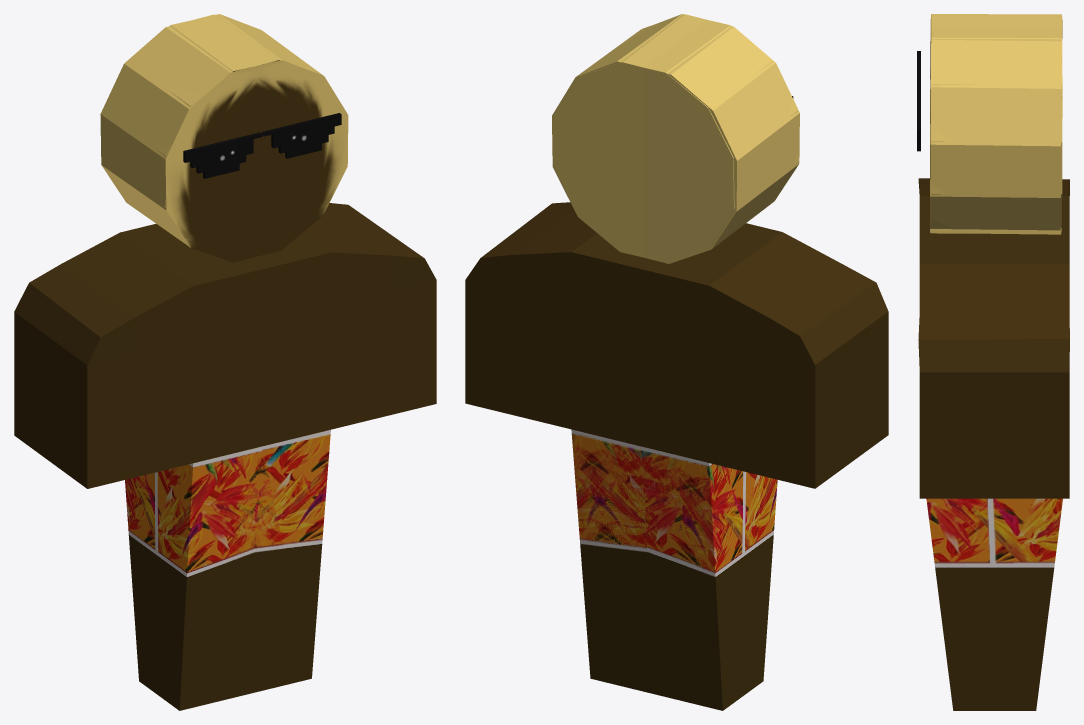
The model's file is vastaantulija._aurinkolasit.fbx.
3 views of the same model, side by side, from view 1: azimuth 30°, elevation 25°; view 2: azimuth 150°, elevation 25°; view 3: azimuth 270°, elevation 25° (orthographic). The views are drawn at different scales.
Parts seen in each view (by area): view 1: Cube.001; view 2: Cube.001; view 3: Cube.001.
Part boxes in pixels (box(x1,y1,x2,y2)): Cube.001: box(14, 14, 436, 710); Cube.001: box(465, 14, 888, 710); Cube.001: box(917, 14, 1069, 710).
Size of the model in its own units: 2.81 by 4.89 by 1.04.
1 material, 1 textured.
